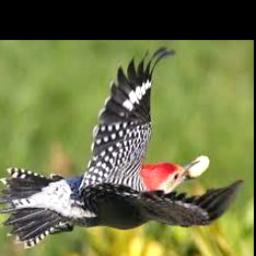Woodpecker: (0, 46, 244, 248)
